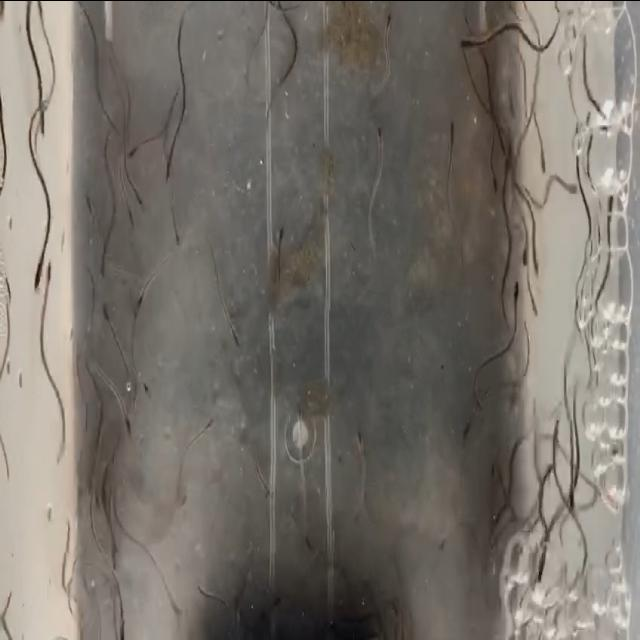active_glass_eel: (34, 70, 52, 138), (504, 80, 522, 128), (136, 361, 156, 404), (524, 279, 540, 327), (34, 248, 47, 304), (536, 533, 550, 585), (41, 252, 56, 298), (457, 414, 475, 452), (272, 220, 286, 268), (510, 278, 526, 320), (487, 455, 501, 503), (226, 314, 244, 350), (160, 152, 177, 190), (602, 177, 616, 223), (121, 196, 137, 236), (460, 26, 480, 58), (557, 170, 577, 202), (532, 132, 546, 176), (128, 186, 147, 218), (133, 278, 148, 315), (353, 423, 368, 460), (100, 300, 116, 334), (564, 478, 580, 512), (528, 248, 542, 286), (172, 489, 190, 518), (124, 132, 142, 160), (114, 604, 128, 640), (292, 400, 306, 435), (380, 6, 396, 36), (490, 161, 502, 201), (520, 230, 532, 268), (120, 414, 134, 446), (374, 122, 384, 166), (443, 116, 458, 144), (170, 217, 183, 249), (82, 189, 94, 223), (198, 416, 214, 441)
